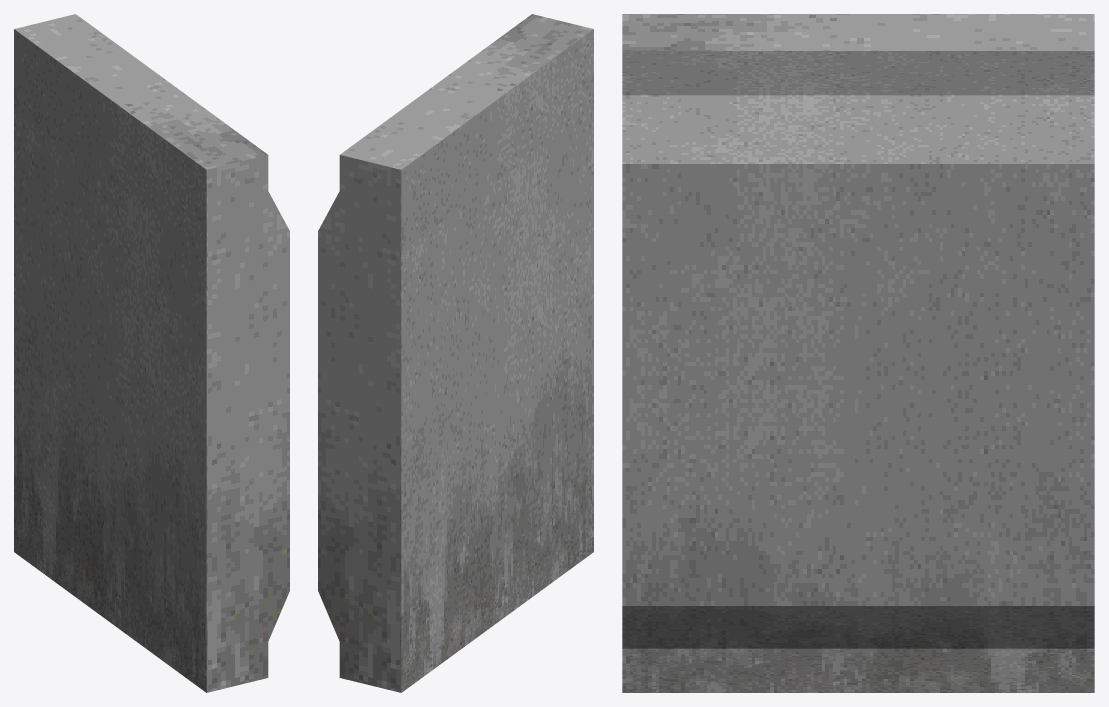
Rendered from Light_Concrete_Fat_wall-col.glb.
The picture shows the model from 3 angles, left to right: view 1: azimuth 30°, elevation 25°; view 2: azimuth 150°, elevation 25°; view 3: azimuth 270°, elevation 25°; orthographic projection. The views are drawn at different scales.
Visible parts, largest first — view 1: Light_Concrete_Fat_wall-col; view 2: Light_Concrete_Fat_wall-col; view 3: Light_Concrete_Fat_wall-col.
Part boxes in pixels (x1,y1,x2,y2): Light_Concrete_Fat_wall-col: (14,14,289,692); Light_Concrete_Fat_wall-col: (318,14,593,692); Light_Concrete_Fat_wall-col: (622,14,1094,692).
Size of the model in its own units: 0.5123 by 3.07 by 2.05.
Materials: 1 (1 with a texture image).
